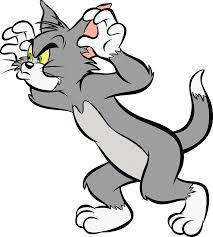tom: (1, 1, 213, 236)
